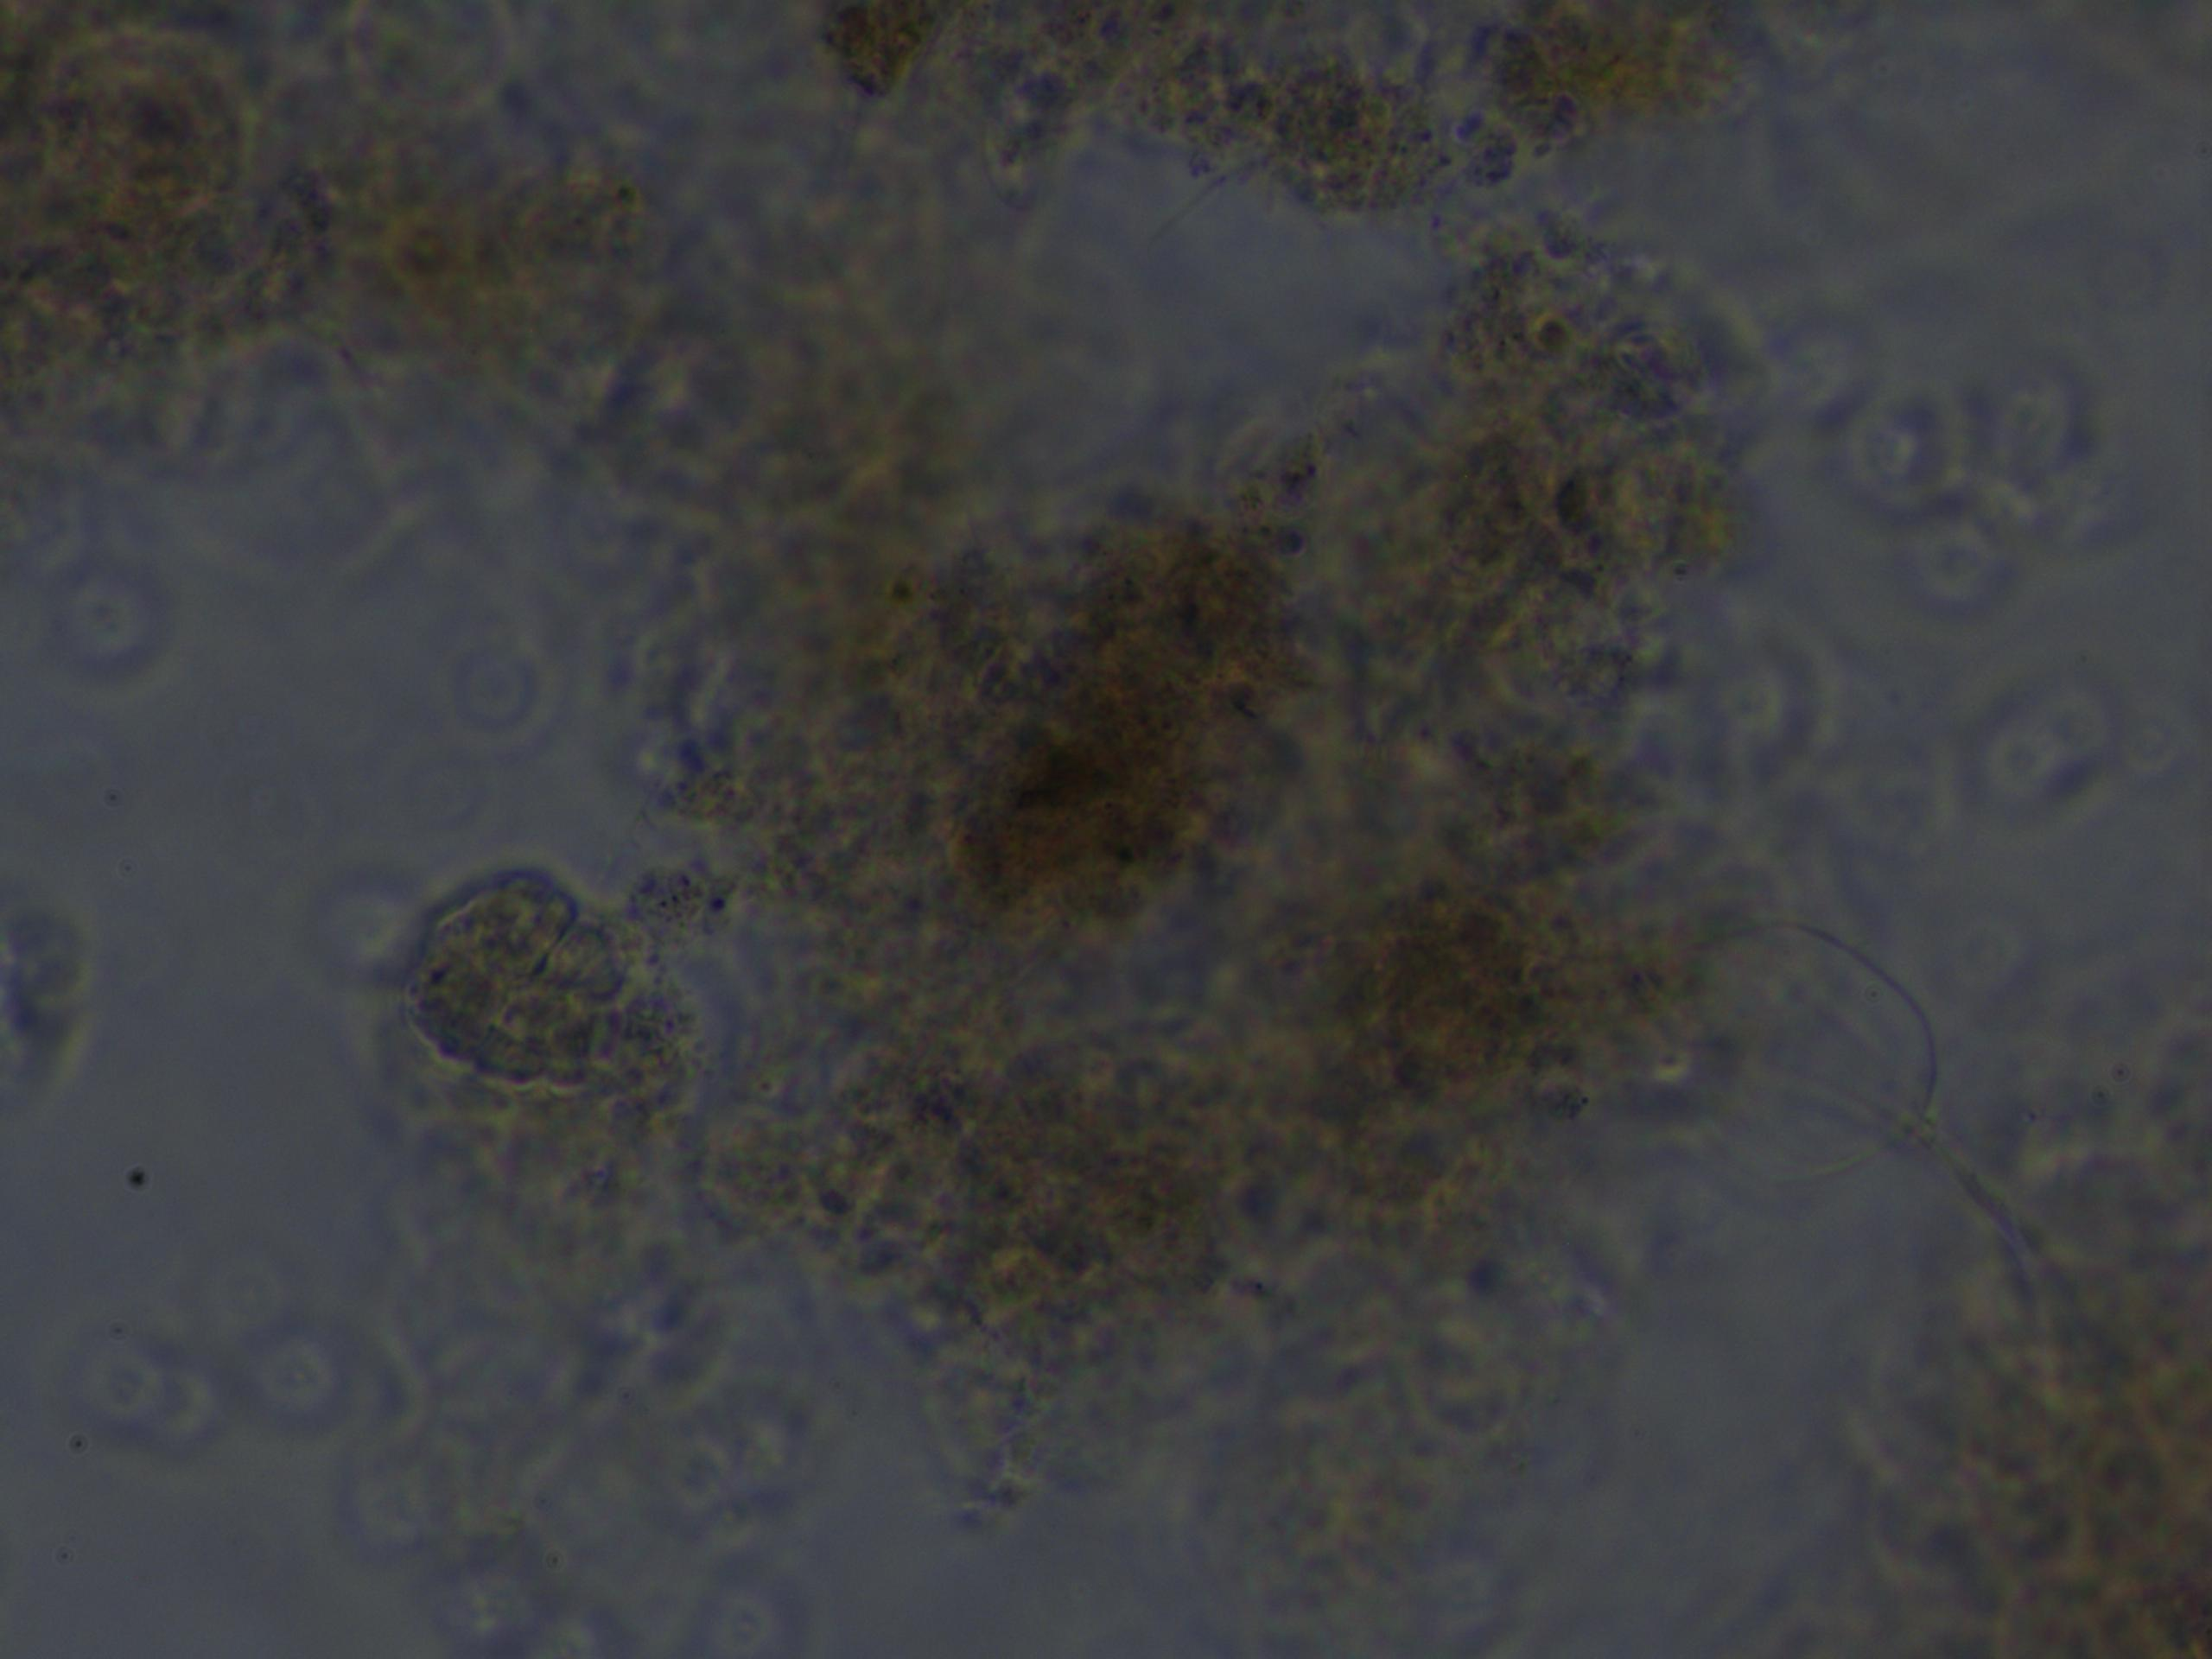open_floc: (730, 211, 1737, 1366)
